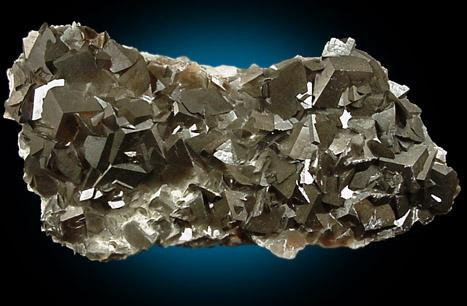calcite: (5, 26, 460, 260)
